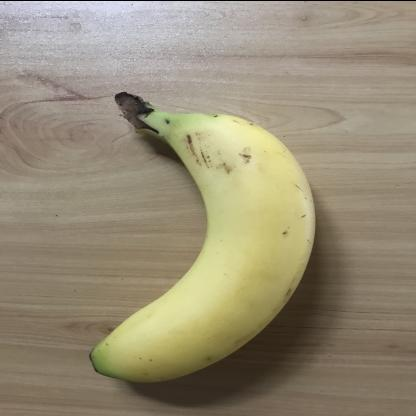banana: (82, 88, 320, 387)
